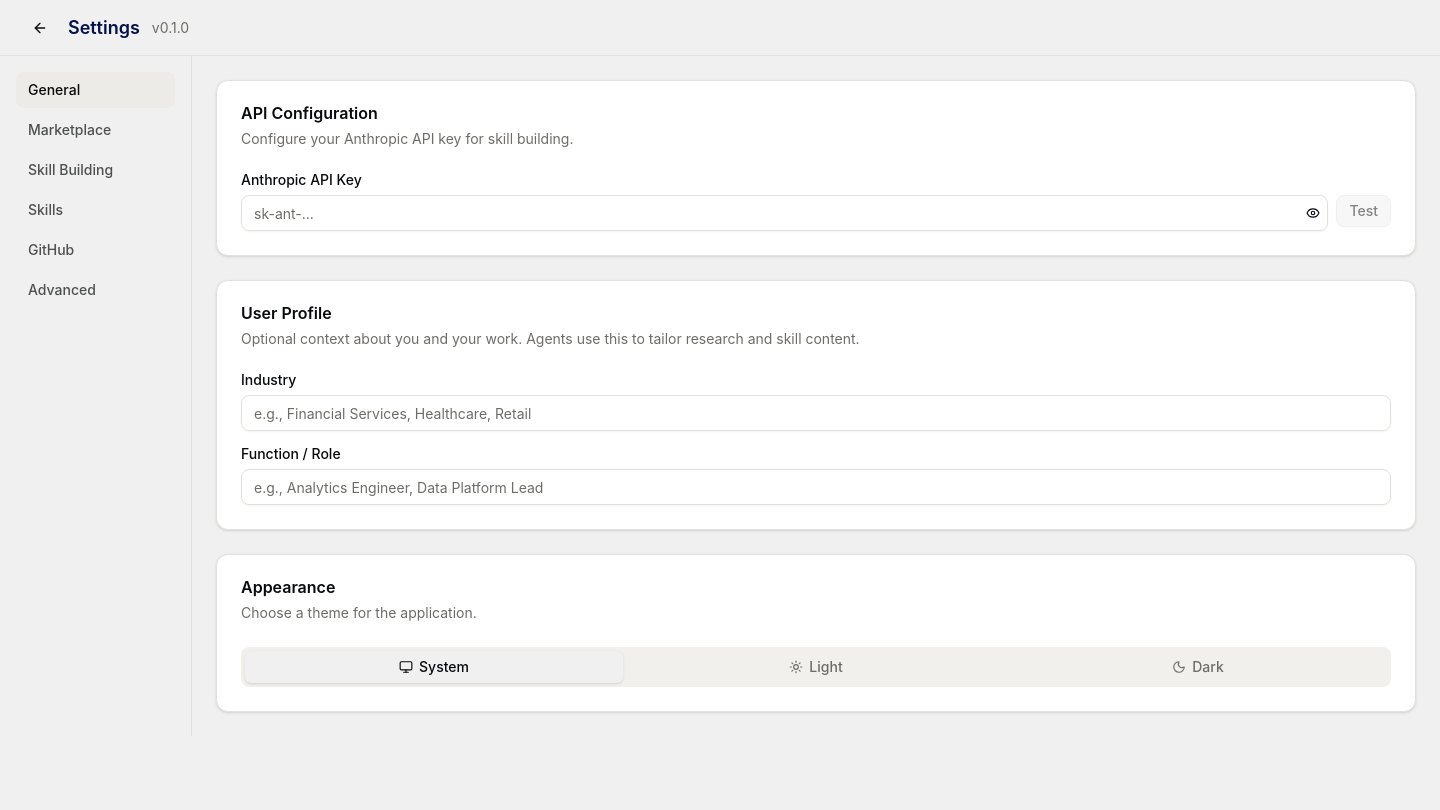
it: SettingsPage › shows 'Not configured' when no skills folder path
Expected: the heading "Settings" is shown, [68, 14, 140, 42]
Step 1. Click the button "Advanced" → {"x": 96, "y": 290}, box [16, 272, 175, 308]
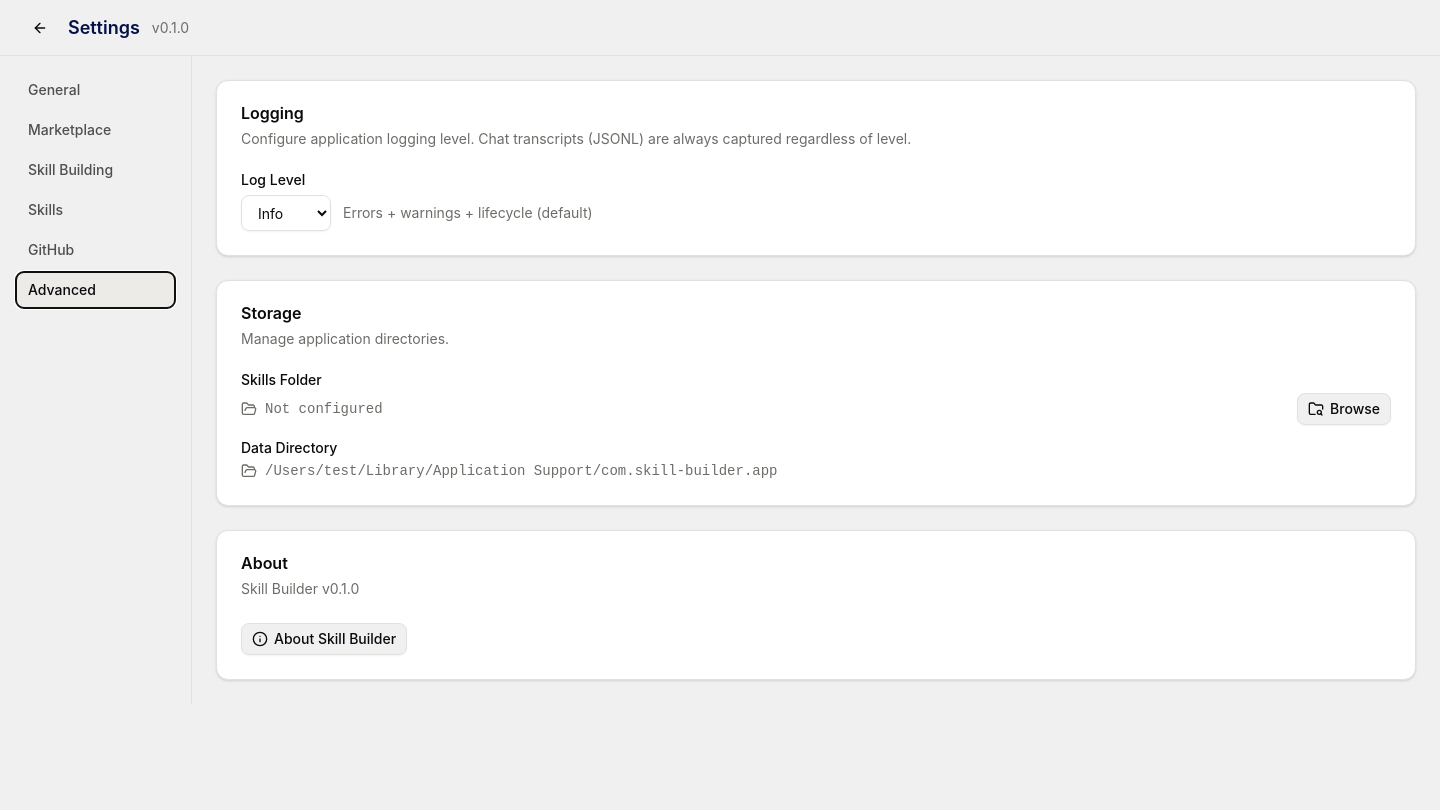
Expected: the text "Not configured" is shown, [265, 401, 383, 417]
